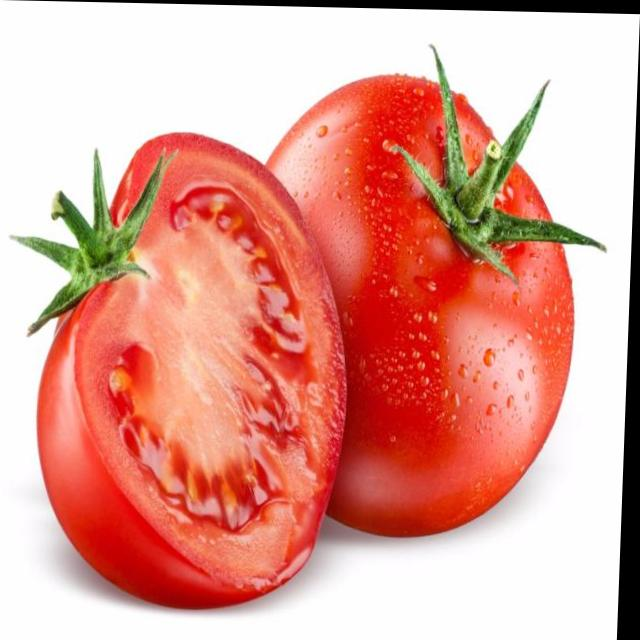kirmizi: (9, 56, 582, 588)
